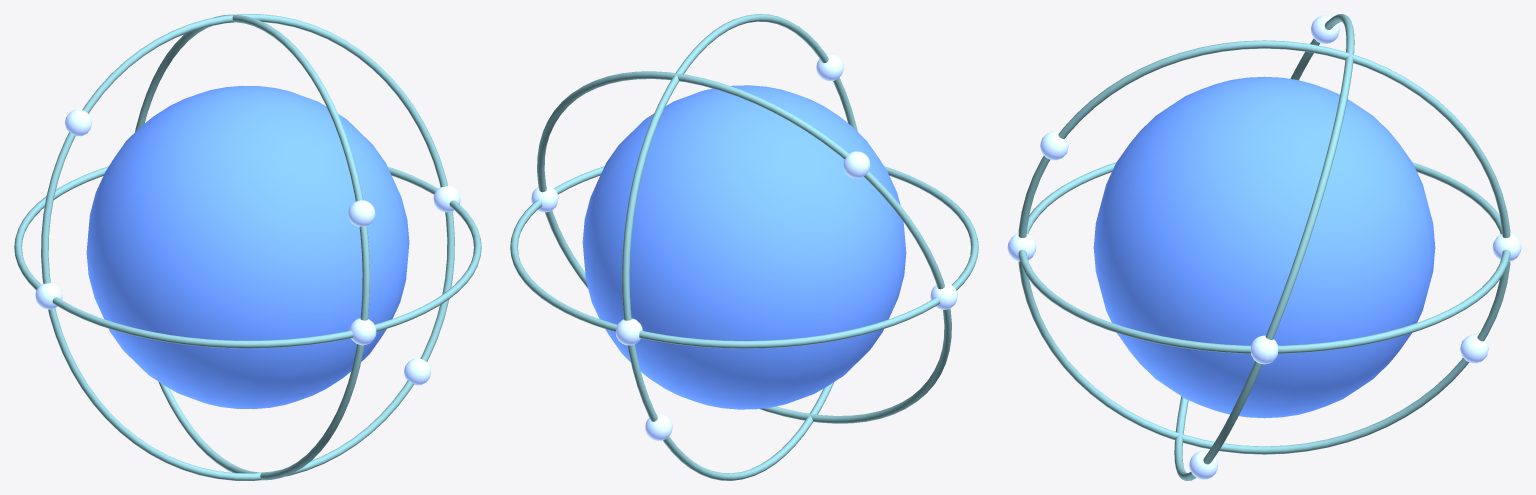
The model's file is network-globe.gltf.
The picture shows the model from 3 angles, left to right: view 1: azimuth 30°, elevation 25°; view 2: azimuth 150°, elevation 25°; view 3: azimuth 270°, elevation 25°; orthographic projection. The views are drawn at different scales.
Parts seen in each view (by area): view 1: Core, Ring2, Ring1, Ring3; view 2: Core, Ring2, Ring3, Ring1; view 3: Core, Ring3, Ring1, Ring2.
Boxes of the visible parts, x1,y1,x2,y2 form: Core: [86, 85, 409, 409]; Ring2: [41, 14, 454, 480]; Ring1: [14, 166, 481, 348]; Ring3: [135, 14, 375, 480]; Core: [582, 85, 906, 409]; Ring2: [537, 71, 951, 423]; Ring3: [622, 14, 857, 480]; Ring1: [510, 166, 978, 348]; Core: [1093, 76, 1435, 418]; Ring3: [1018, 40, 1510, 454]; Ring1: [1007, 162, 1521, 364]; Ring2: [1174, 14, 1354, 480].
Size of the model in its own units: 3.01 by 2.86 by 3.01.
